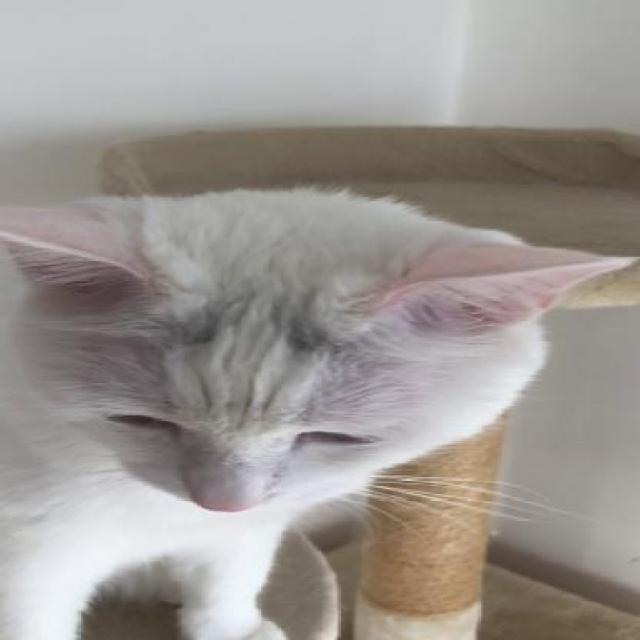cat-face: (0, 181, 637, 514)
